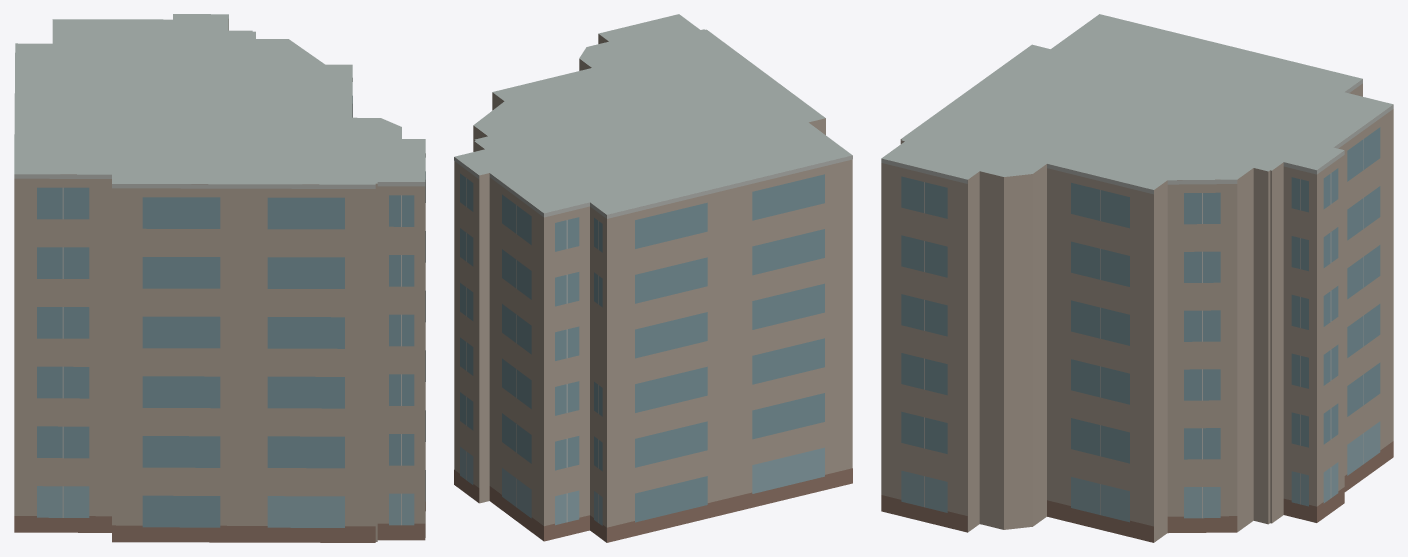
The model's file is survey-upis-33022725.glb.
The picture shows the model from 3 angles, left to right: view 1: azimuth 30°, elevation 25°; view 2: azimuth 150°, elevation 25°; view 3: azimuth 270°, elevation 25°; orthographic projection. The views are drawn at different scales.
Visible parts, largest first — view 1: survey-upis-33022725.tmp; view 2: survey-upis-33022725.tmp; view 3: survey-upis-33022725.tmp.
Part boxes in pixels (<box>): survey-upis-33022725.tmp: <box>14,14,425,542</box>; survey-upis-33022725.tmp: <box>454,14,852,542</box>; survey-upis-33022725.tmp: <box>881,14,1393,542</box>.
Size of the model in its own units: 21.09 by 19.7 by 25.93.
